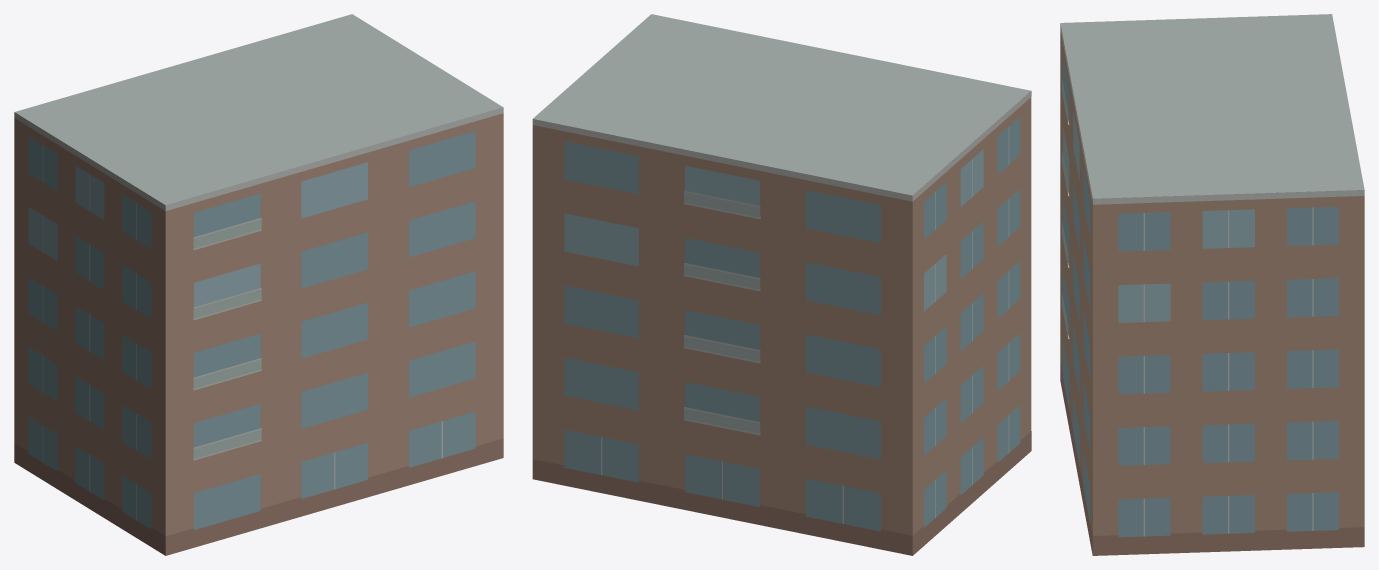
Rendered from survey-upis-32738037.glb.
3 renders of one model, left to right at view 1: azimuth 30°, elevation 25°; view 2: azimuth 150°, elevation 25°; view 3: azimuth 270°, elevation 25°, orthographic. The views are drawn at different scales.
Visible parts, largest first — view 1: survey-upis-32738037.tmp; view 2: survey-upis-32738037.tmp; view 3: survey-upis-32738037.tmp.
Part boxes in pixels (x1,y1,x2,y2): survey-upis-32738037.tmp: (14, 14, 503, 555); survey-upis-32738037.tmp: (532, 14, 1031, 555); survey-upis-32738037.tmp: (1060, 14, 1364, 555).
Bounding box in the file's own units: 16.1 × 14.5 × 11.21.
